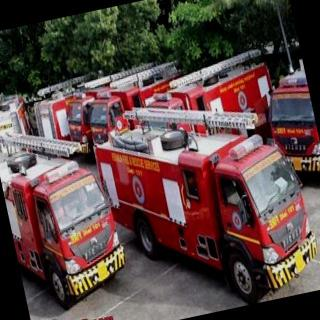Fire_truck: (85, 72, 320, 320), (0, 134, 134, 316)
